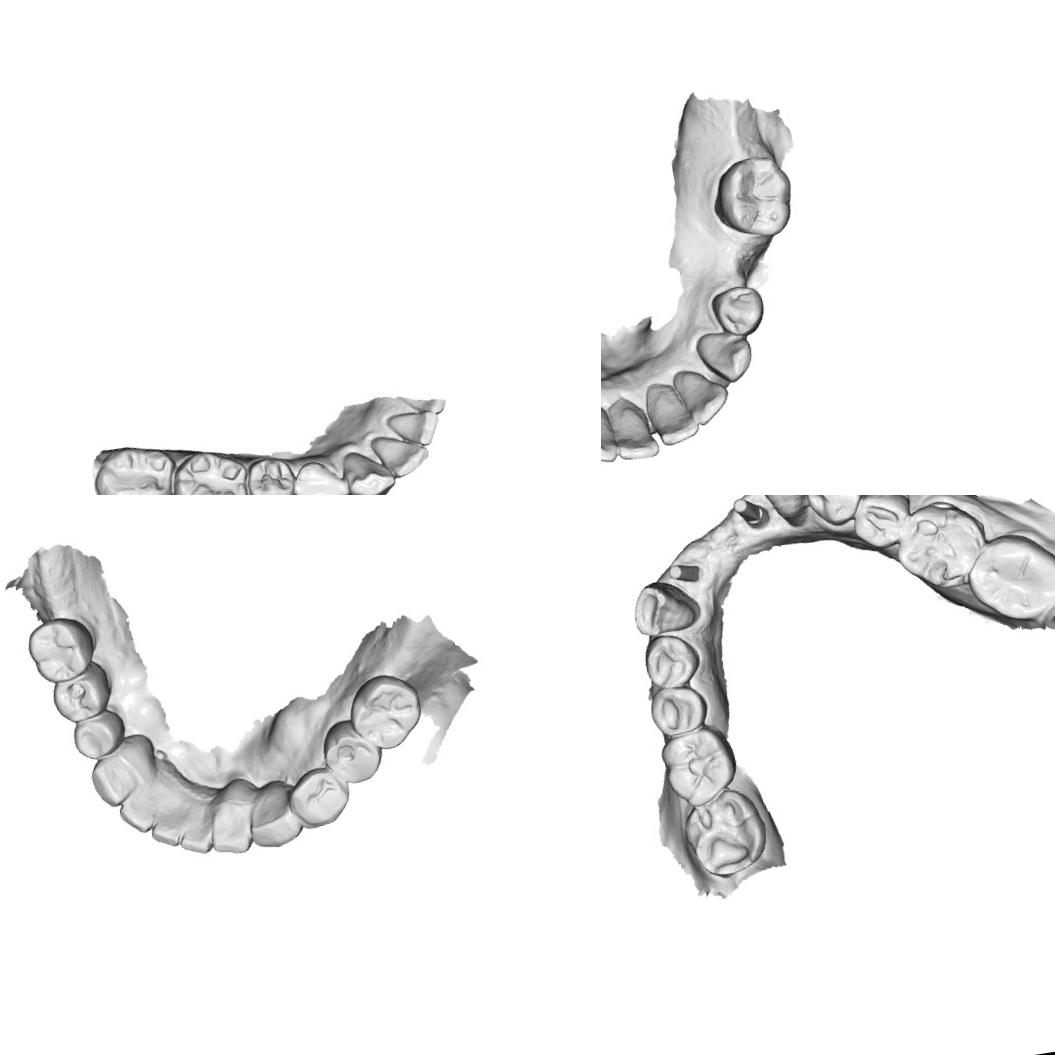abutment: (731, 495, 768, 536), (664, 557, 706, 588)
canine: (242, 776, 306, 852), (627, 576, 700, 640), (86, 743, 152, 810), (692, 324, 759, 388), (337, 444, 399, 495), (753, 495, 816, 525)
incisor: (642, 376, 702, 450), (668, 362, 732, 430), (608, 396, 659, 466), (368, 428, 432, 482), (114, 782, 165, 838), (385, 406, 443, 452), (208, 810, 258, 857), (175, 810, 216, 858), (146, 806, 188, 850), (601, 397, 620, 470)
molar: (888, 496, 994, 598), (959, 524, 1055, 631), (676, 782, 774, 883), (704, 149, 800, 245), (342, 668, 428, 756), (656, 722, 740, 812), (23, 612, 99, 687), (89, 438, 184, 495), (167, 443, 256, 495)
premolar: (318, 714, 386, 788), (284, 763, 355, 832), (47, 659, 115, 726), (705, 279, 774, 345), (638, 628, 704, 692), (847, 495, 918, 553), (643, 680, 710, 740), (68, 707, 130, 763), (242, 452, 301, 495), (290, 456, 349, 495), (804, 495, 867, 529)
